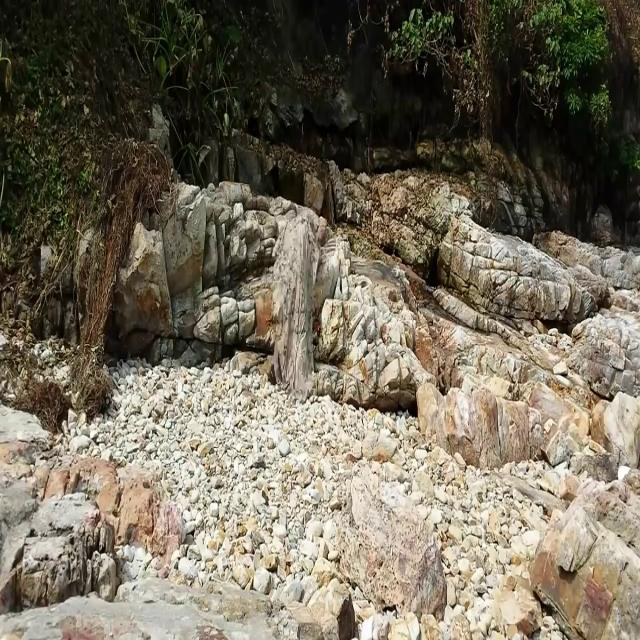Camouflage: (271, 215, 323, 393)
